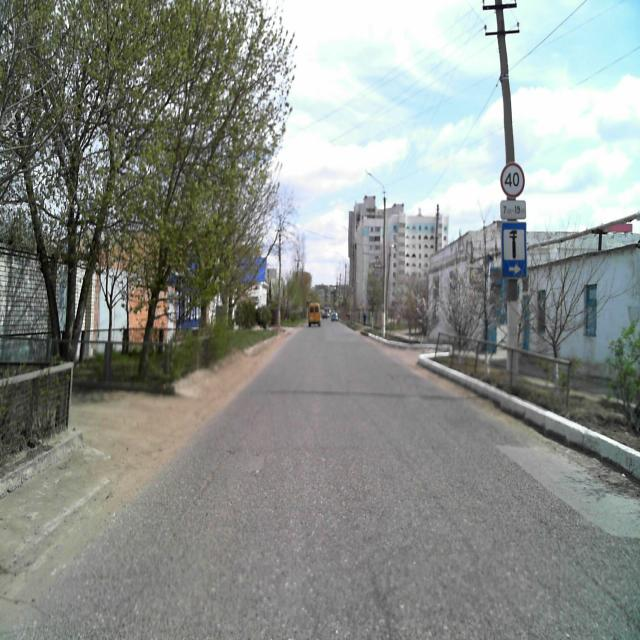road sign: (501, 221, 526, 279), (500, 199, 527, 220)
